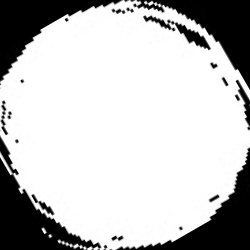spot: (3, 1, 249, 248)
